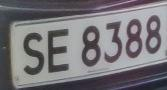3: (103, 18, 126, 66)
8: (79, 22, 104, 71), (143, 11, 165, 59), (124, 15, 145, 62)
E: (44, 27, 72, 77)
S: (20, 28, 47, 78)
